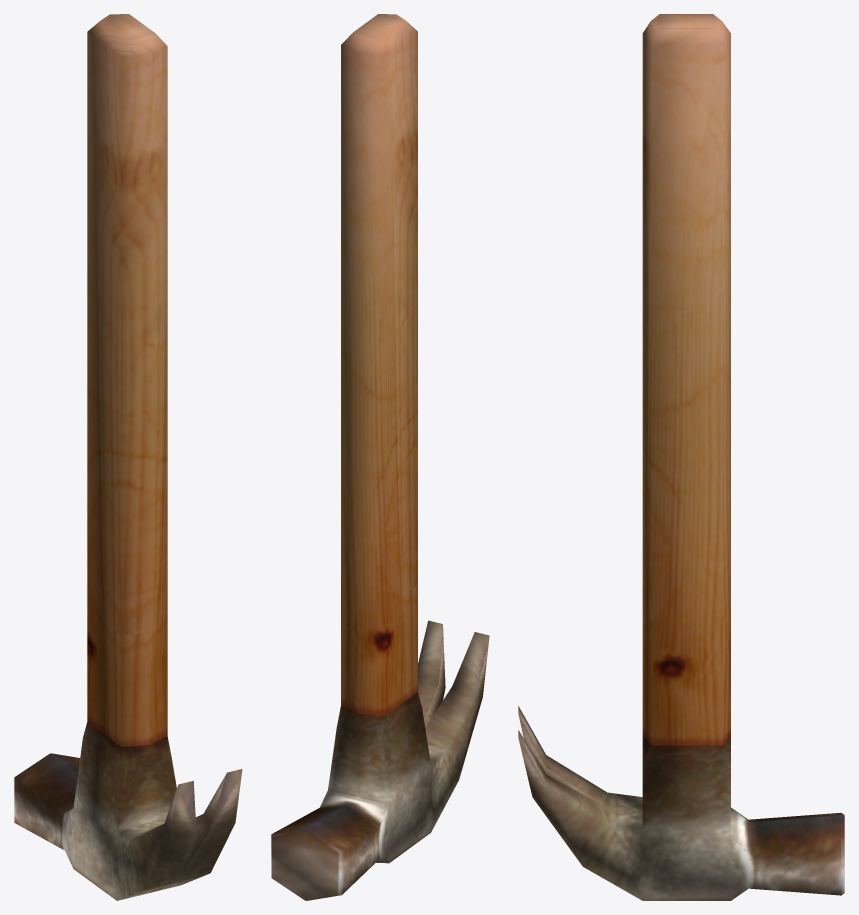
File: hammer.obj
3 views of the same model, side by side, from view 1: azimuth 30°, elevation 25°; view 2: azimuth 150°, elevation 25°; view 3: azimuth 270°, elevation 25° (orthographic). The views are drawn at different scales.
Parts seen in each view (by area): view 1: hammer:hammerModel; view 2: hammer:hammerModel; view 3: hammer:hammerModel.
Part boxes in pixels (left/top/right/bottom): hammer:hammerModel: left=14, top=14, right=242, bottom=900; hammer:hammerModel: left=271, top=14, right=489, bottom=900; hammer:hammerModel: left=518, top=14, right=844, bottom=900.
Bounding box in the file's own units: 0.0686 × 0.7621 × 0.2589.
Materials: 1 (1 with a texture image).
